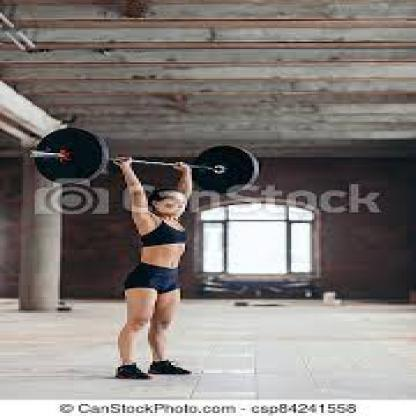Barbell: (19, 148, 45, 163)
